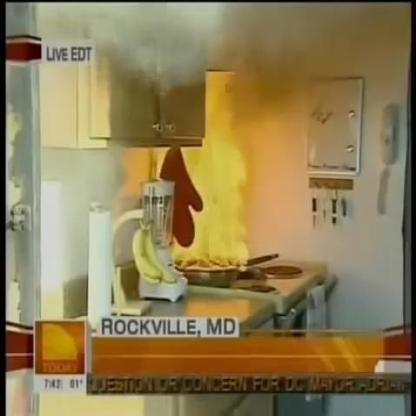fire: (168, 64, 250, 268)
